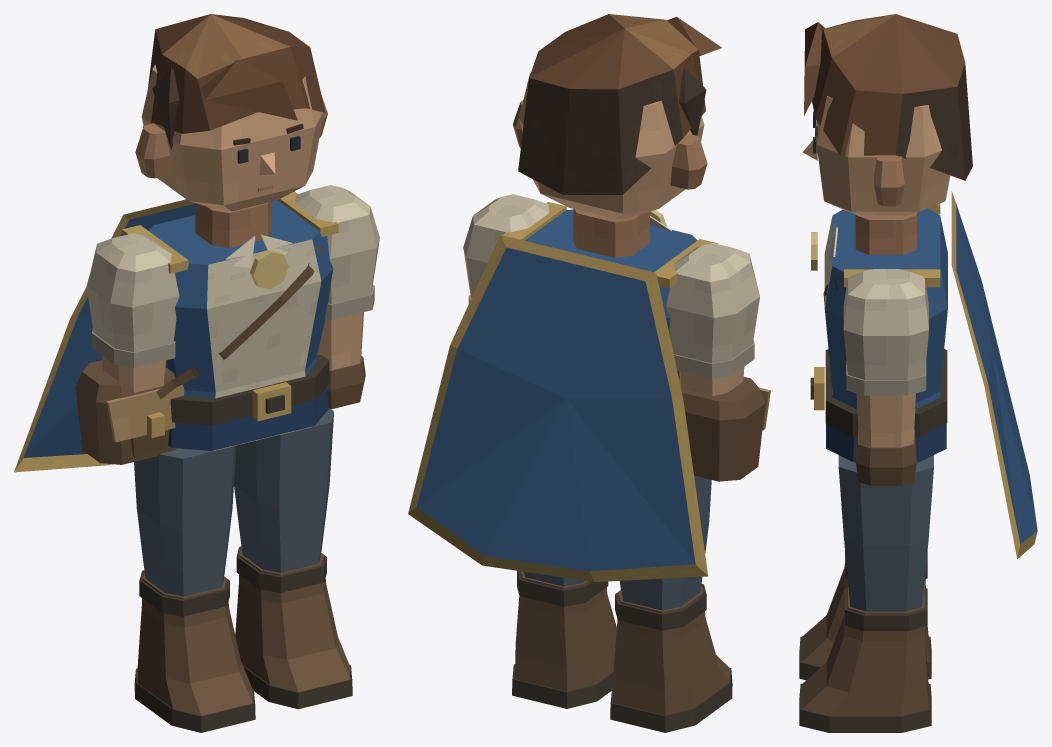
File: alden.glb
The picture shows the model from 3 angles, left to right: view 1: azimuth 30°, elevation 25°; view 2: azimuth 150°, elevation 25°; view 3: azimuth 270°, elevation 25°; orthographic projection.
Visible parts, largest first — view 1: Blue_vest_with_linen_front, leftLeg_trousers, rightLeg_trousers, Hair_dominant_swept_mass, Head_chin_and_cheeks, leftLeg_boot, rightLeg_boot, leftArm_linen_sleeve, cape, rightArm_linen_sleeve, Satchel_pouch, Tunic_lower_hem (+21 smaller); view 2: cape, Hair_dominant_swept_mass, leftLeg_boot, leftArm_linen_sleeve, rightLeg_boot, Satchel_pouch, Head_chin_and_cheeks, rightArm_linen_sleeve, Blue_vest_with_linen_front, Neck, leftLeg_trousers, leftLeg_sole (+10 smaller); view 3: Hair_dominant_swept_mass, rightLeg_trousers, rightLeg_boot, Blue_vest_with_linen_front, rightArm_linen_sleeve, cape, Head_chin_and_cheeks, rightArm_forearm, Belt, rightLeg_sole, rightArm_glove, Neck (+9 smaller).
Part boxes in pixels (left/top/right/bottom): Blue_vest_with_linen_front: left=148, top=200, right=333, bottom=451; leftLeg_trousers: left=134, top=445, right=236, bottom=596; rightLeg_trousers: left=234, top=408, right=333, bottom=572; Hair_dominant_swept_mass: left=143, top=14, right=325, bottom=133; Head_chin_and_cheeks: left=141, top=64, right=323, bottom=211; leftLeg_boot: left=137, top=571, right=252, bottom=715; rightLeg_boot: left=235, top=548, right=350, bottom=692; leftArm_linen_sleeve: left=86, top=233, right=179, bottom=352; cape: left=14, top=199, right=195, bottom=472; rightArm_linen_sleeve: left=295, top=185, right=379, bottom=303; Satchel_pouch: left=75, top=360, right=176, bottom=464; Tunic_lower_hem: left=168, top=387, right=328, bottom=450; cape: left=408, top=235, right=708, bottom=581; Hair_dominant_swept_mass: left=518, top=14, right=705, bottom=194; leftLeg_boot: left=613, top=585, right=729, bottom=715; leftArm_linen_sleeve: left=666, top=243, right=759, bottom=363; rightLeg_boot: left=515, top=571, right=616, bottom=691; Satchel_pouch: left=679, top=377, right=765, bottom=481; Head_chin_and_cheeks: left=519, top=73, right=704, bottom=218; rightArm_linen_sleeve: left=463, top=194, right=549, bottom=298; Blue_vest_with_linen_front: left=525, top=209, right=697, bottom=378; Neck: left=573, top=209, right=649, bottom=257; leftLeg_trousers: left=619, top=475, right=711, bottom=610; leftLeg_sole: left=610, top=668, right=732, bottom=732; Hair_dominant_swept_mass: left=812, top=14, right=972, bottom=180; rightLeg_trousers: left=838, top=455, right=933, bottom=611; rightLeg_boot: left=801, top=587, right=928, bottom=716; Blue_vest_with_linen_front: left=824, top=208, right=947, bottom=462; rightArm_linen_sleeve: left=843, top=269, right=928, bottom=379; cape: left=951, top=191, right=1037, bottom=558; Head_chin_and_cheeks: left=816, top=96, right=950, bottom=215; rightArm_forearm: left=856, top=393, right=915, bottom=447; Belt: left=825, top=349, right=947, bottom=436; rightLeg_sole: left=799, top=683, right=931, bottom=732; rightArm_glove: left=856, top=429, right=916, bottom=485; Neck: left=855, top=212, right=916, bottom=254.
Size of the model in its own units: 0.875 by 1.91 by 0.619.
Materials: 1 (1 with a texture image).
